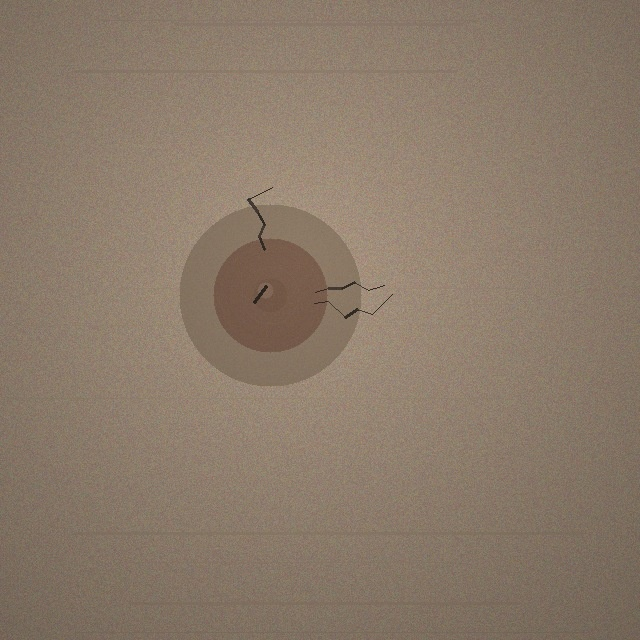crack: (179, 204, 361, 386)
